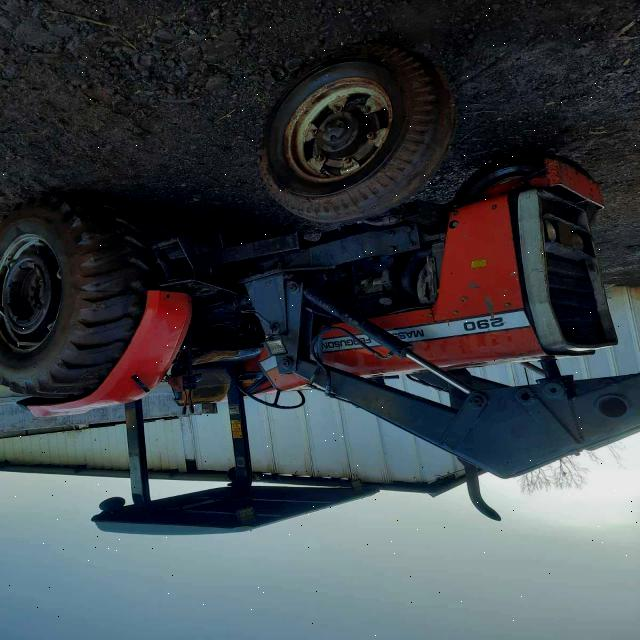Tratores - v5 YOLO V8L 2024-11-13: (1, 40, 612, 532)
